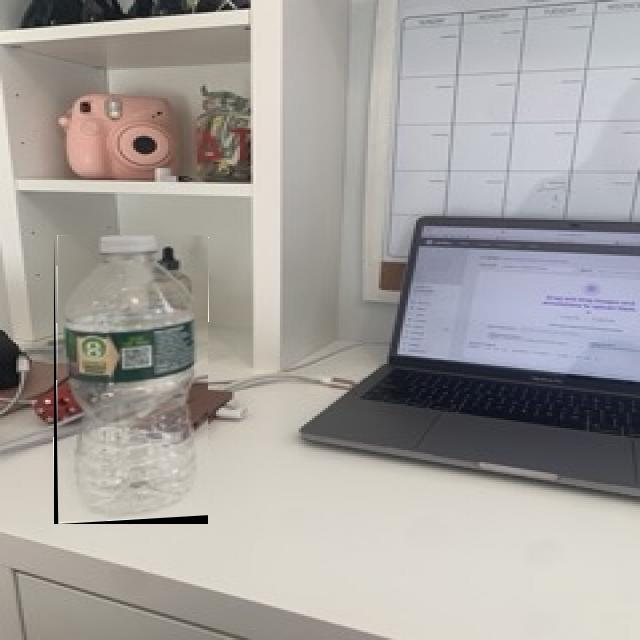water_bottle: (54, 235, 208, 524)
